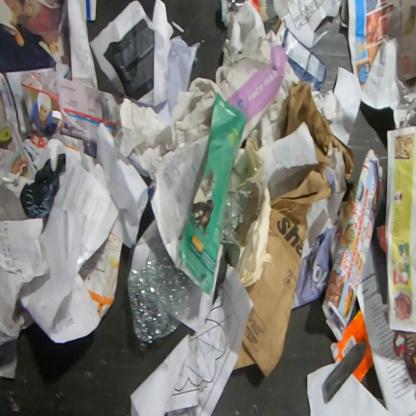cardboard: (270, 16, 328, 92), (76, 230, 123, 318)
rigid_plastic: (128, 238, 200, 343), (219, 178, 260, 247), (220, 0, 296, 23)
